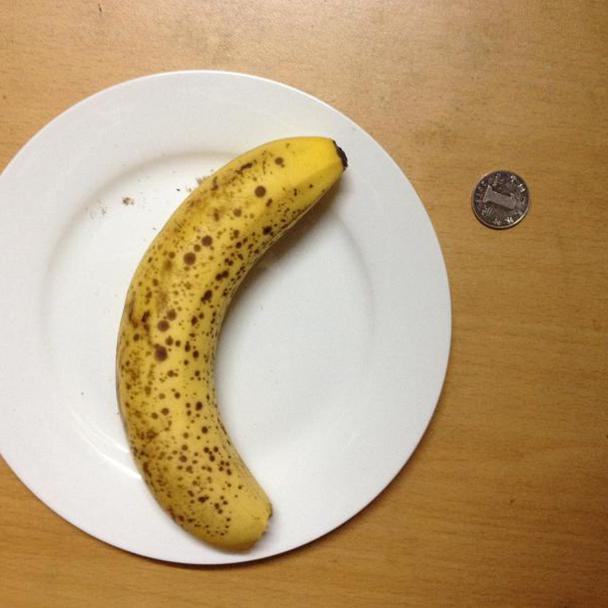banana: (109, 134, 348, 548)
